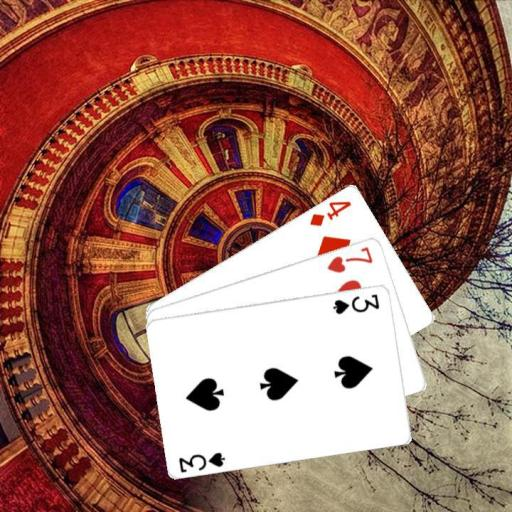3S: (330, 290, 381, 315), (176, 449, 227, 474)
4D: (307, 197, 353, 228)
7H: (324, 243, 375, 275)
